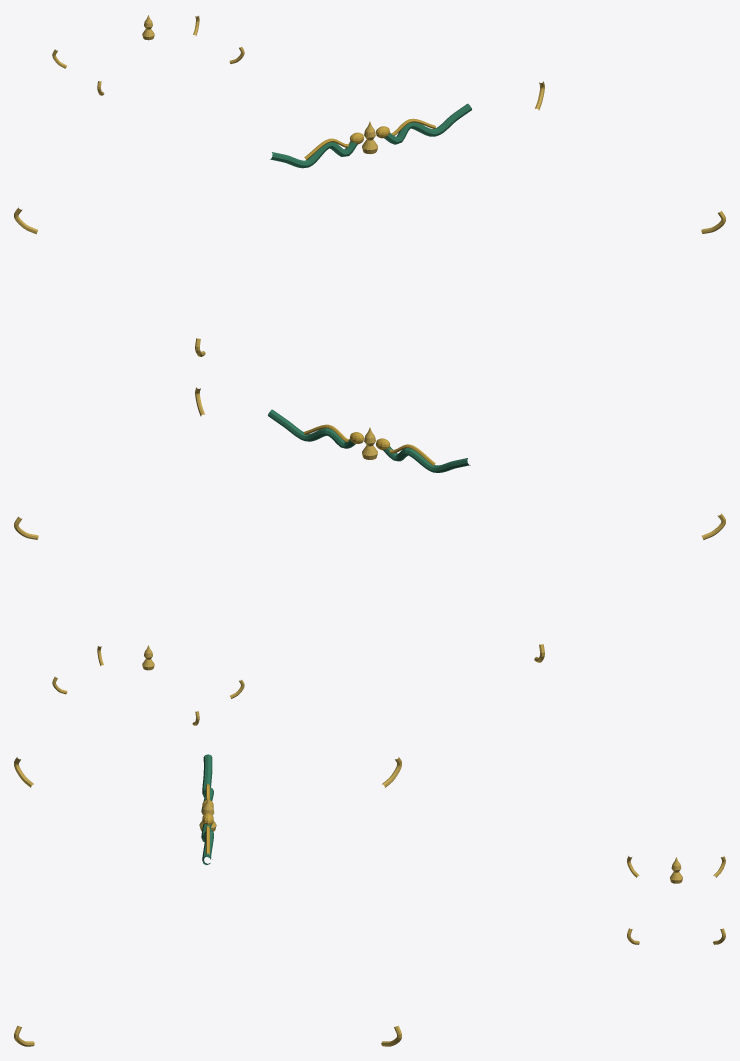
File: sinh-hero.glb
3 views of the same model, one above another, from view 1: azimuth 30°, elevation 25°; view 2: azimuth 150°, elevation 25°; view 3: azimuth 270°, elevation 25° (orthographic). The views are drawn at different scales.
Visible parts, largest first — view 1: sinh_hero_ornaments; view 2: sinh_hero_ornaments; view 3: sinh_hero_ornaments.
Boxes of the visible parts, x1,y1,x2,y2 form: sinh_hero_ornaments: [14, 15, 725, 356]; sinh_hero_ornaments: [14, 387, 725, 725]; sinh_hero_ornaments: [14, 754, 725, 1046].
Bounding box in the file's own units: 16.99 × 3.44 × 18.7.
